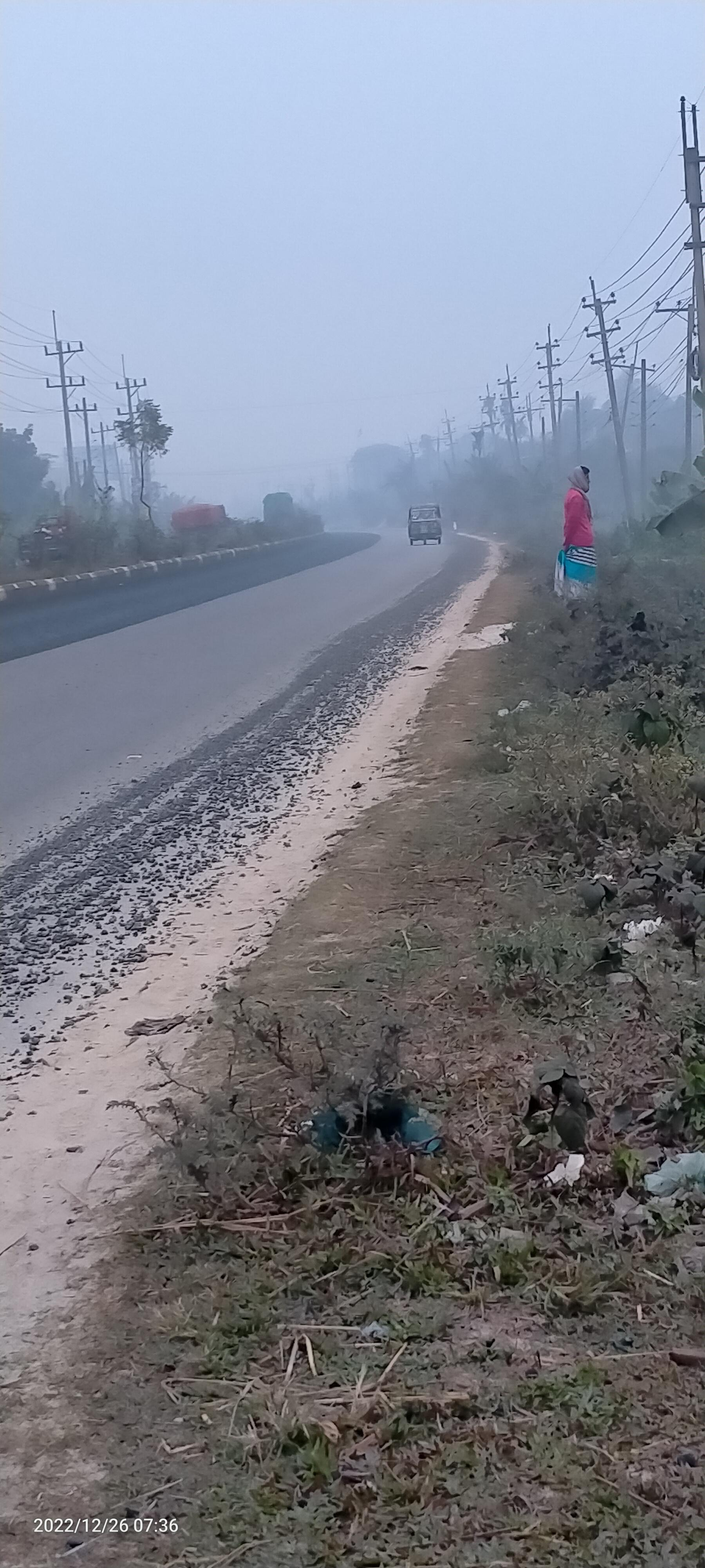Truck: (158, 497, 257, 543), (260, 489, 304, 535)
